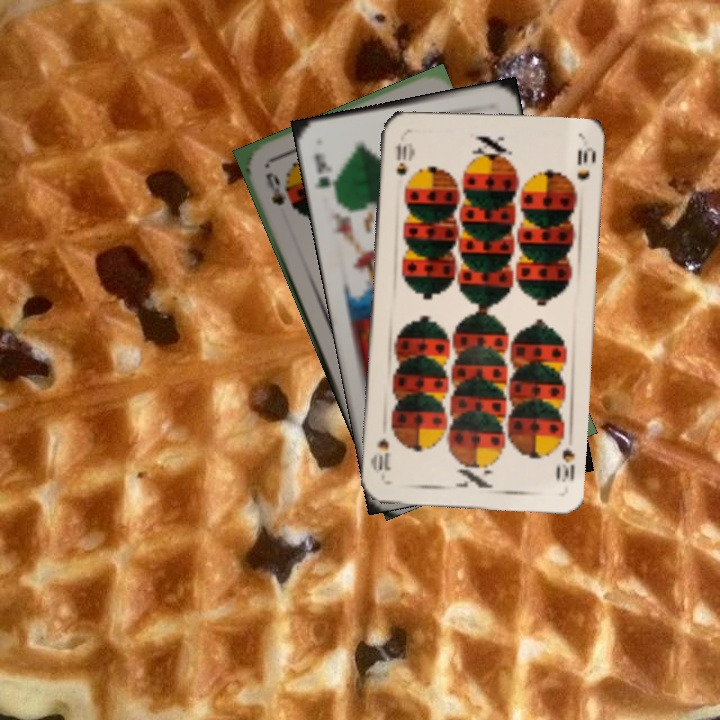GK: (310, 149, 338, 199)
S10: (551, 445, 578, 485), (392, 140, 410, 178)
SO: (261, 168, 289, 208)
